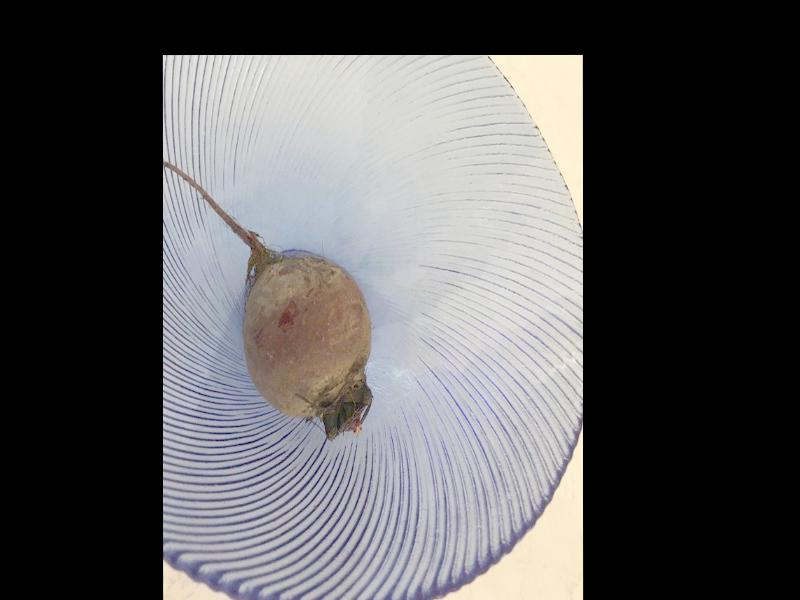Beet: (162, 162, 371, 439)
